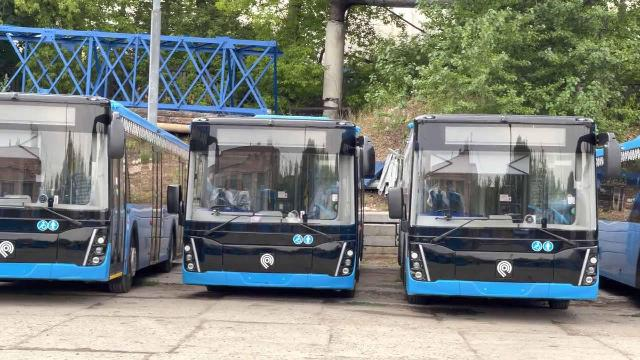bus: (387, 111, 624, 315), (1, 96, 178, 293), (179, 116, 367, 292)
